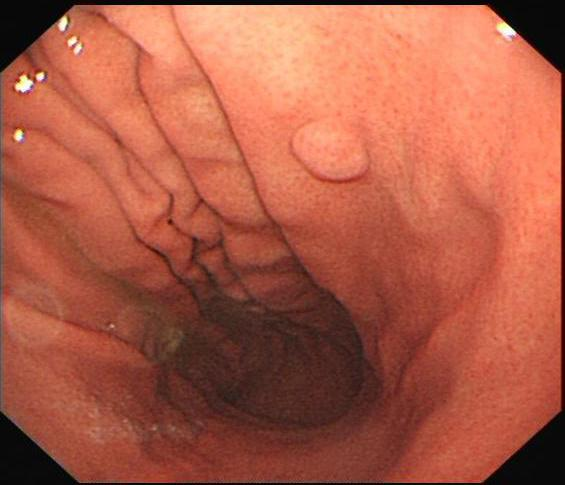Polyp: (283, 115, 370, 198)
